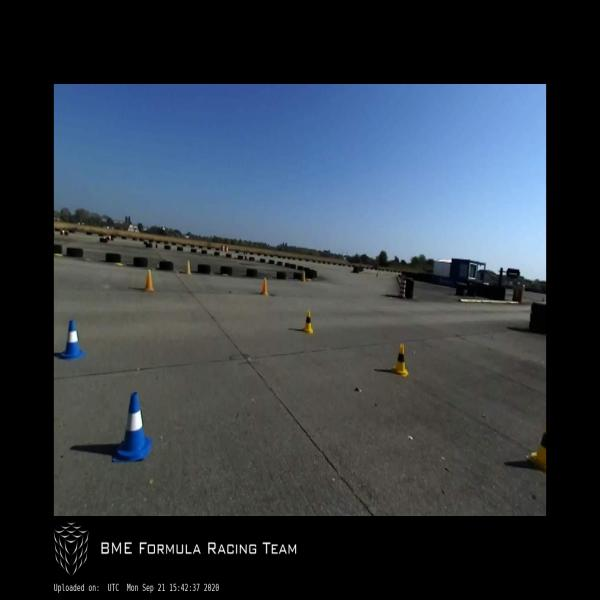blue_cone: (114, 393, 151, 461), (59, 320, 86, 359)
unknown_cone: (144, 269, 153, 291), (260, 278, 268, 294), (185, 260, 191, 274), (301, 271, 305, 280)
yellow_cone: (526, 420, 546, 470), (392, 344, 408, 377), (303, 311, 313, 334)
